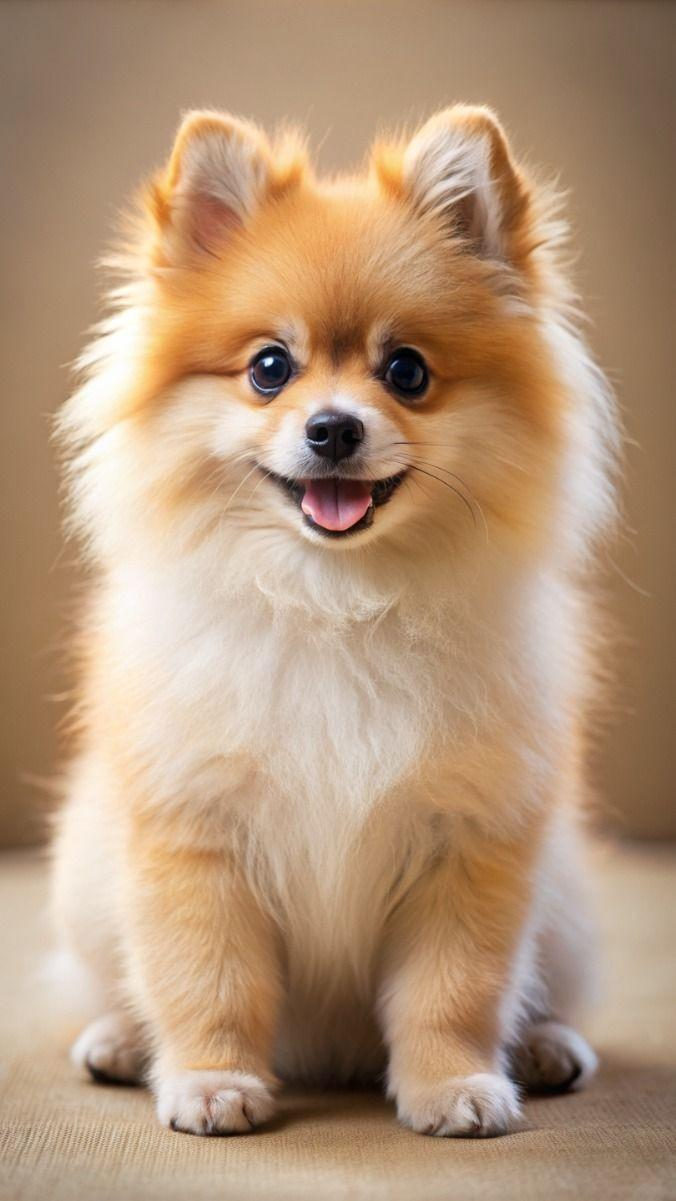puppy-dog: (34, 99, 633, 1144)
